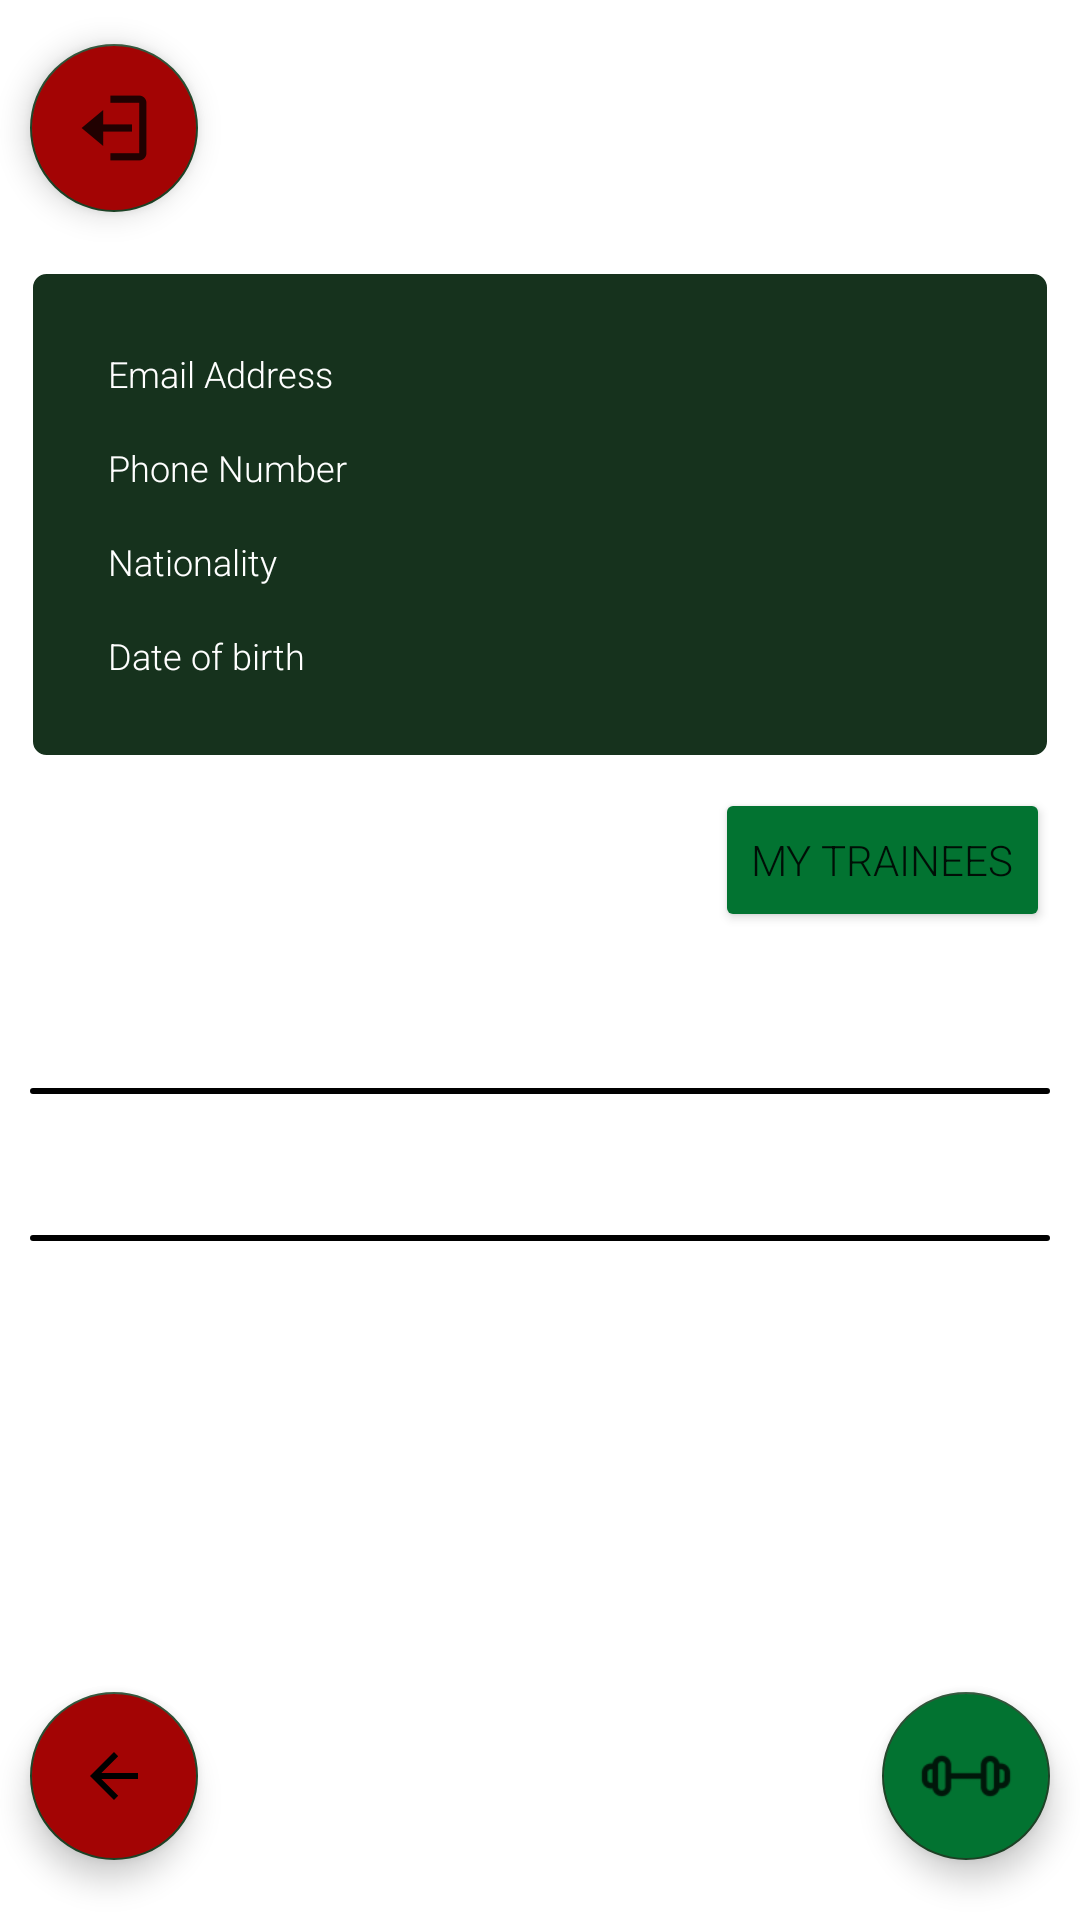

Point at icon controls on the screen. Image size 1080 × 1920, points as point (x, y).
workout: point (966, 1776)
